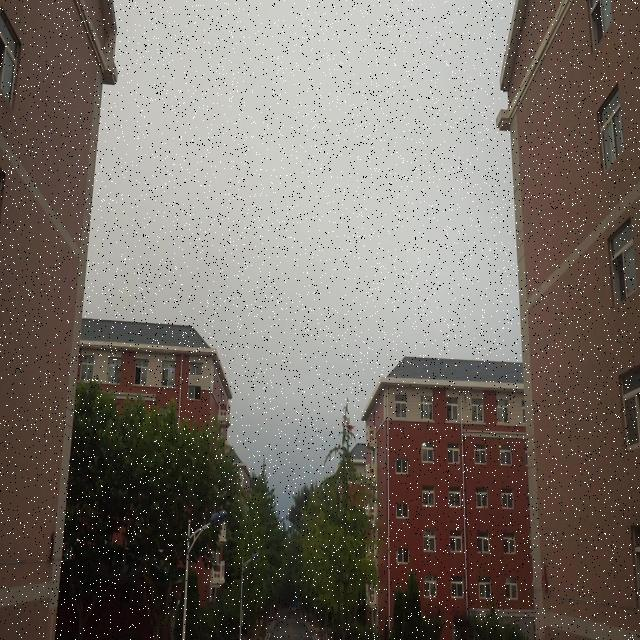UAV: (344, 422, 355, 432)
